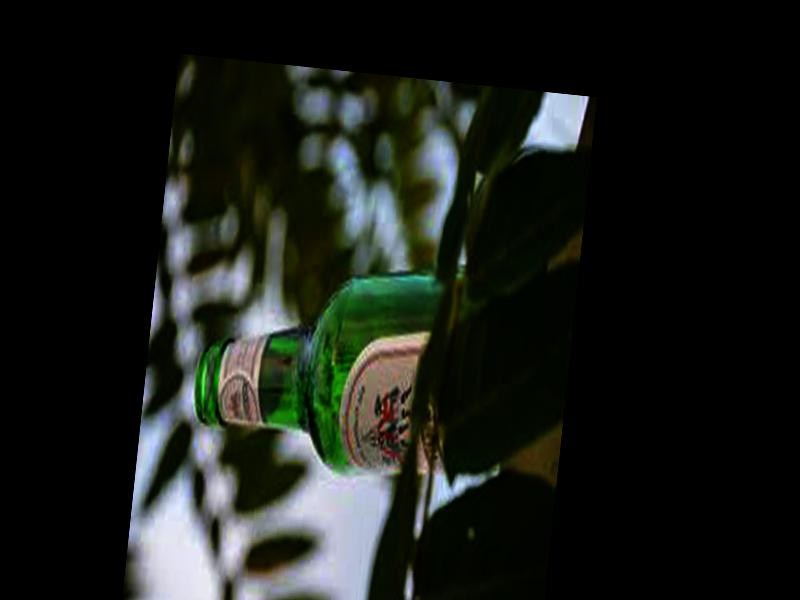Beer: (188, 254, 469, 482)
